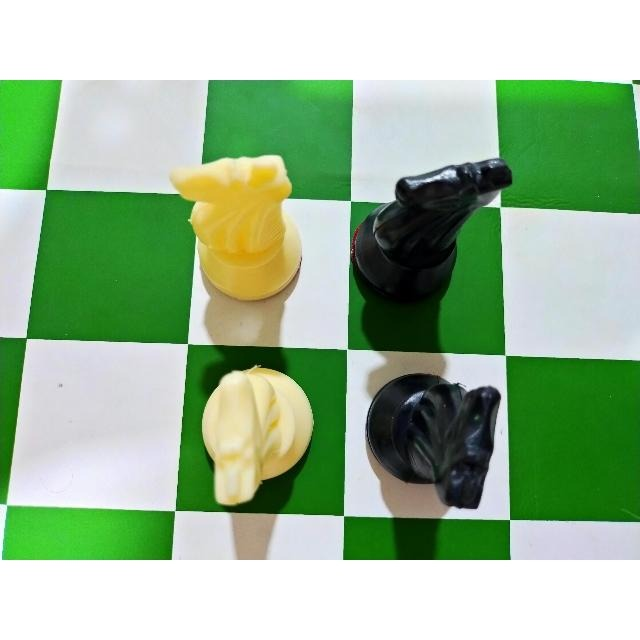black-knight: (347, 153, 521, 349), (354, 365, 519, 515)
white-knight: (171, 150, 332, 334), (177, 354, 323, 510)
